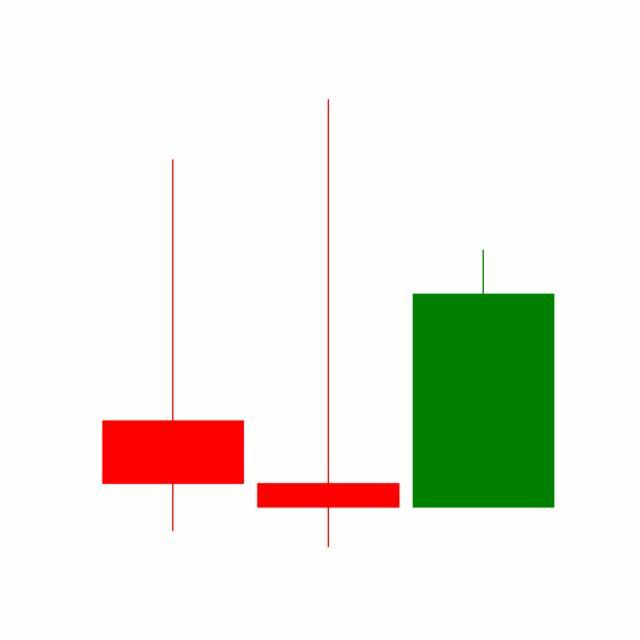Marubozu: (406, 247, 562, 511)
